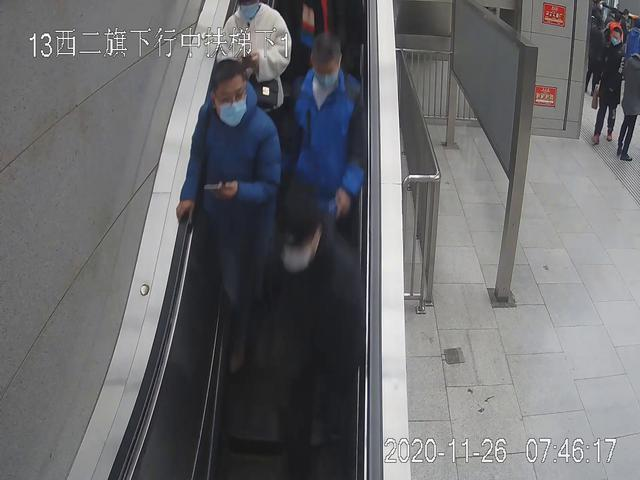person: (178, 60, 284, 377), (293, 35, 366, 340), (217, 1, 292, 272), (591, 27, 626, 145), (619, 52, 640, 163)
